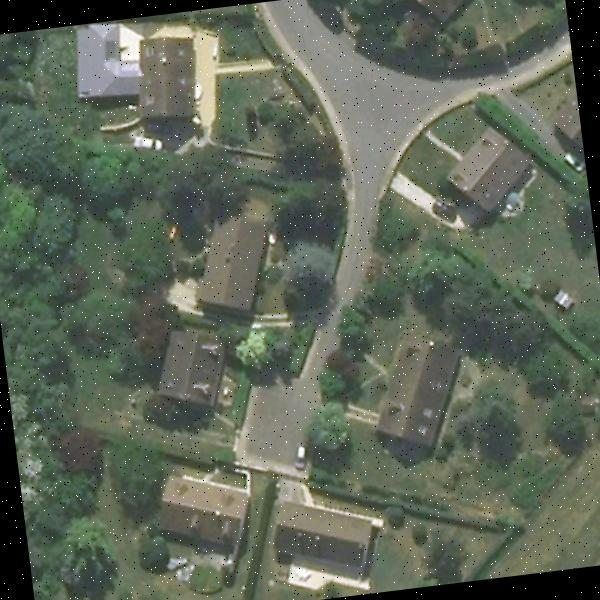Buildings: (72, 15, 198, 124), (451, 127, 537, 212), (275, 496, 368, 572), (385, 342, 455, 426), (162, 478, 247, 539), (202, 218, 265, 300), (164, 335, 226, 404), (550, 96, 584, 157), (408, 0, 464, 20)
